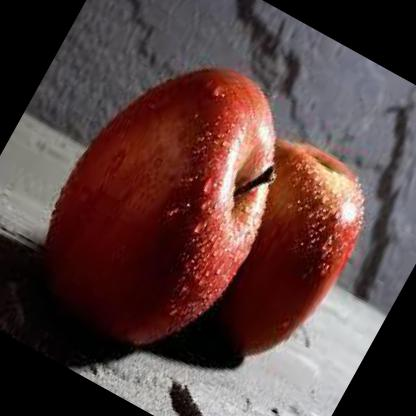apple: (10, 20, 327, 380), (168, 119, 394, 380)
